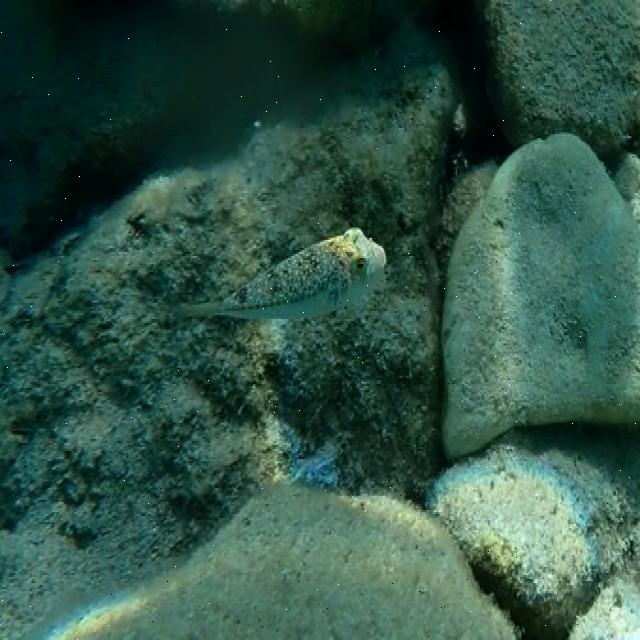Balik: (181, 228, 386, 318)
